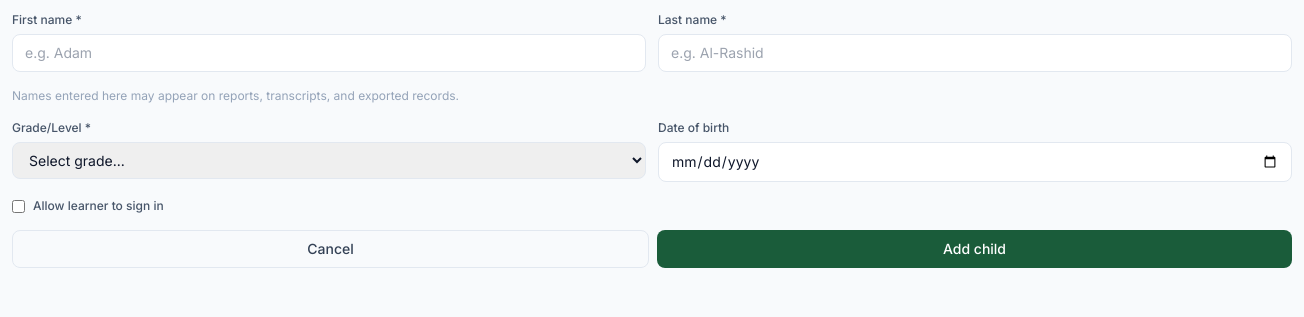
Test: ChildForm component › shows validation error when submitting empty form
Click the button "Add child" at (974, 249), box [657,230,1292,268]
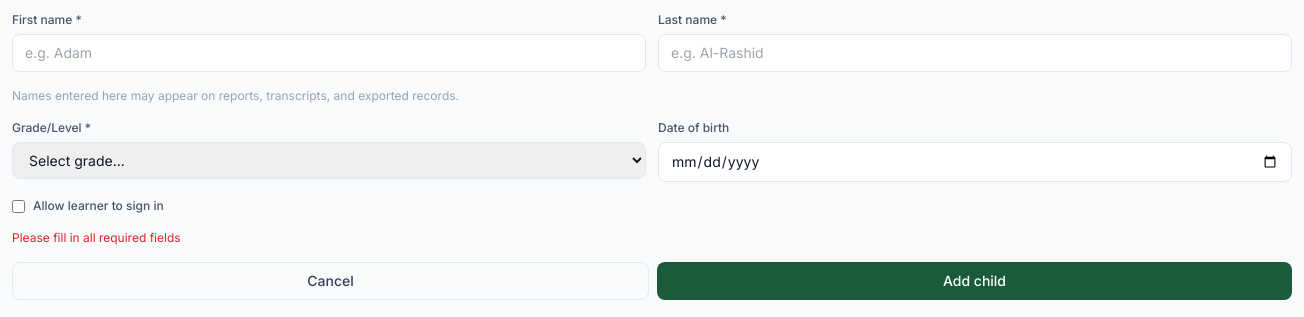
expect the text "Please fill in all required fields" is shown: met, box [12,230,181,245]
